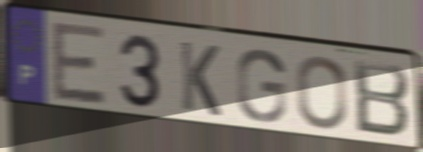3: (116, 32, 162, 112)
B: (351, 57, 412, 140)
E: (48, 18, 109, 107)
G: (234, 47, 289, 125)
K: (177, 38, 224, 120)
O: (294, 54, 349, 132)
